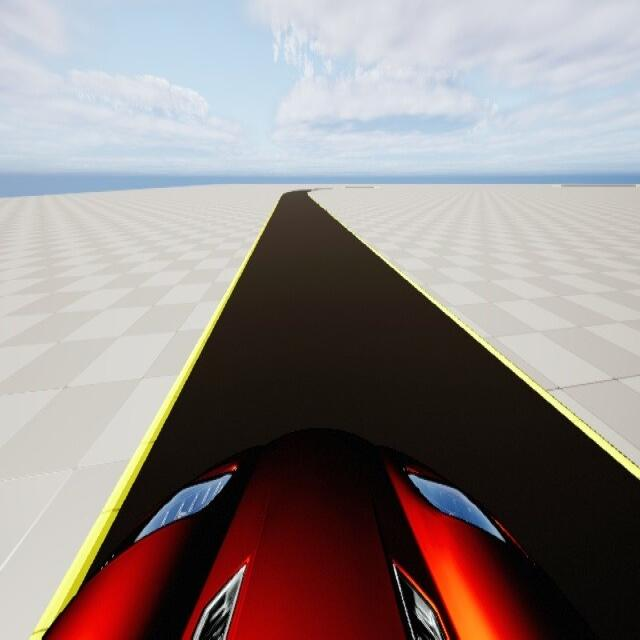lane: (89, 192, 639, 639)
